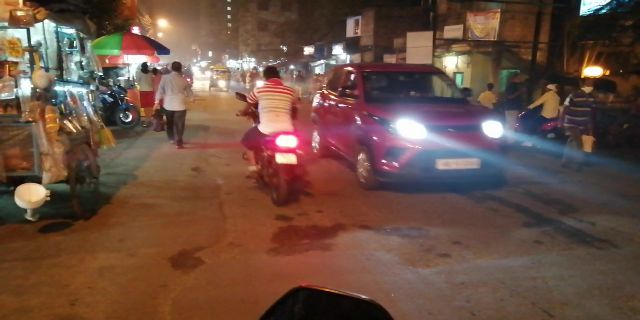Car: (320, 62, 507, 191)
Motorbike: (236, 67, 309, 206)
